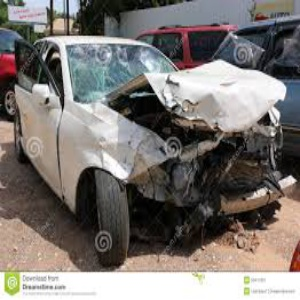bonnet: (153, 60, 285, 138)
bumper: (136, 156, 292, 230)
